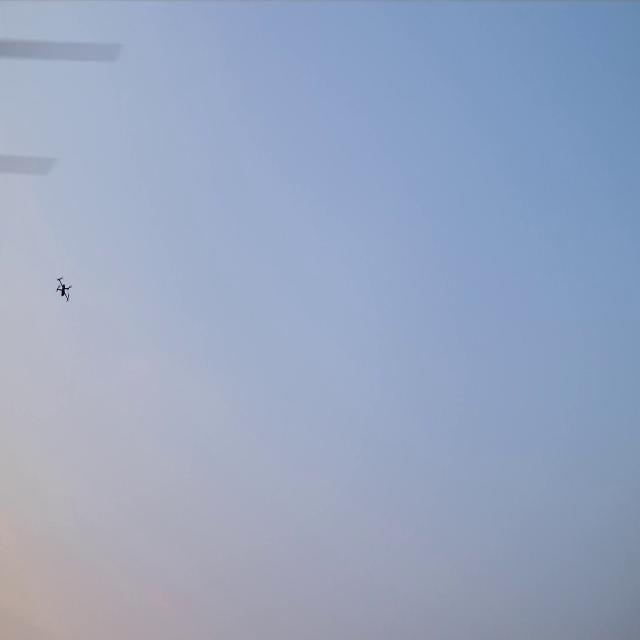UAV: (57, 278, 70, 300)
